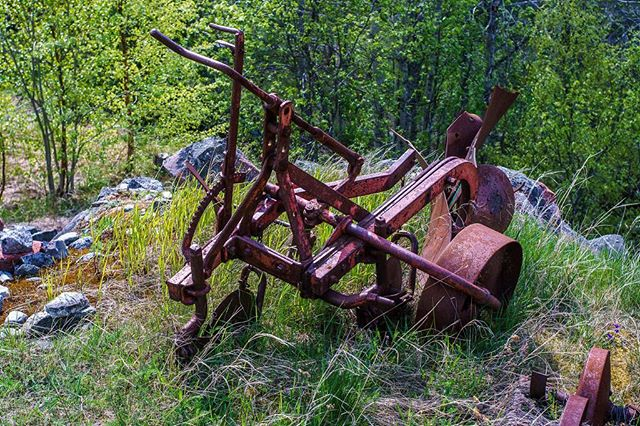trash: (144, 68, 518, 362)
vegetation: (32, 1, 640, 181)
